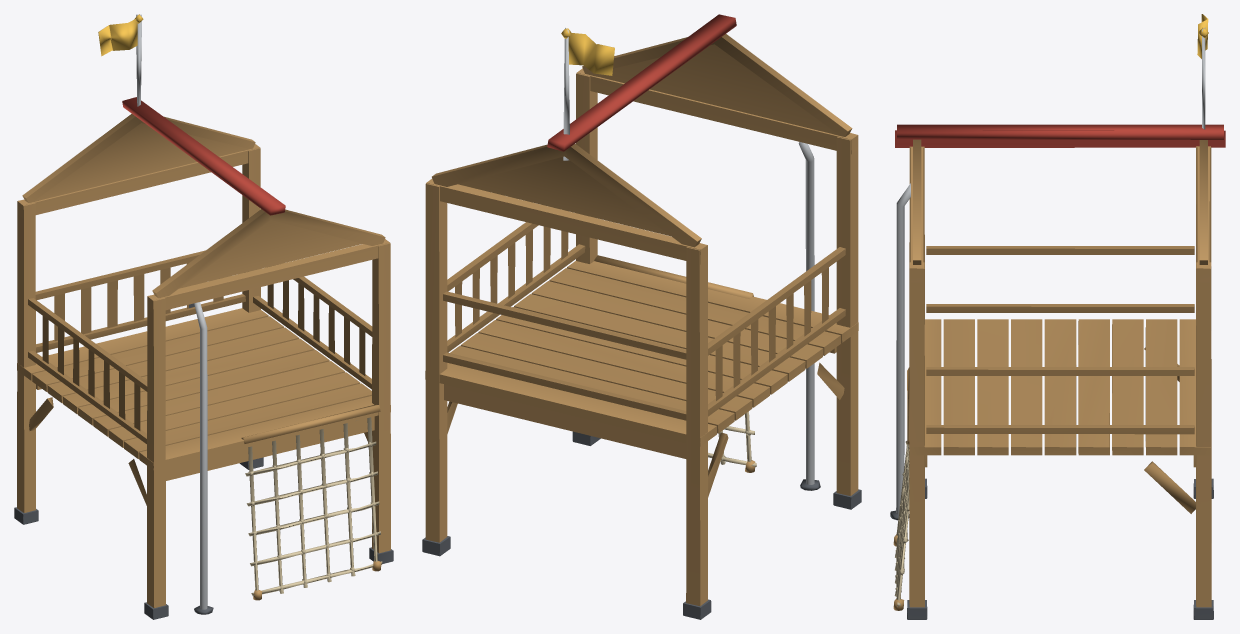
The model's file is climbingFrame.far.glb.
3 renders of one model, left to right at view 1: azimuth 30°, elevation 25°; view 2: azimuth 150°, elevation 25°; view 3: azimuth 270°, elevation 25°, orthographic. The views are drawn at different scales.
Visible parts, largest first — view 1: climbingFrame_far; view 2: climbingFrame_far; view 3: climbingFrame_far.
Boxes of the visible parts, bbox=[...] form: climbingFrame_far: bbox=[14, 14, 393, 619]; climbingFrame_far: bbox=[422, 14, 861, 619]; climbingFrame_far: bbox=[890, 14, 1225, 619].
Size of the model in its own units: 1.82 by 3.46 by 1.99.
